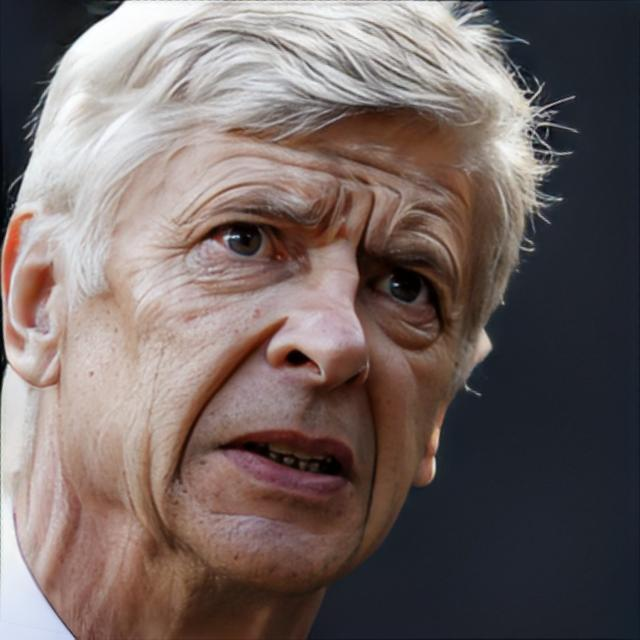disgust: (59, 77, 477, 592)
